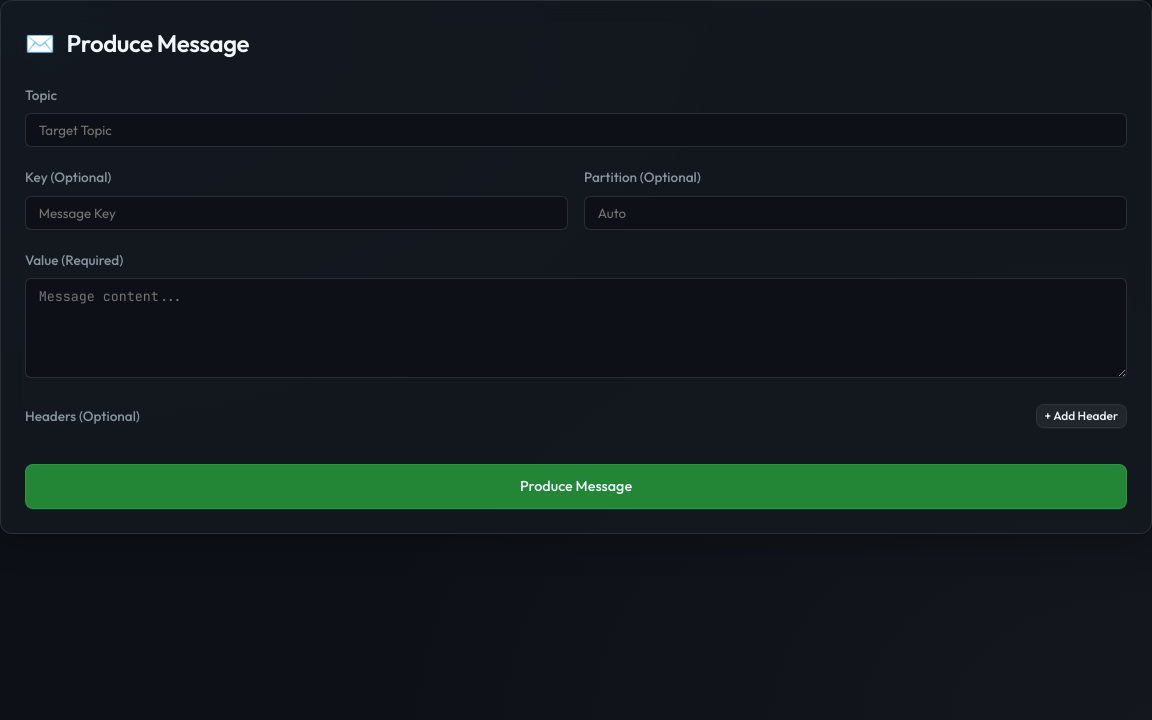
Test: ProducerPanel › shows validation errors on submit with empty fields
Click the button "Produce Message" at (576, 486), box x1=25 y1=464 x2=1127 y2=509
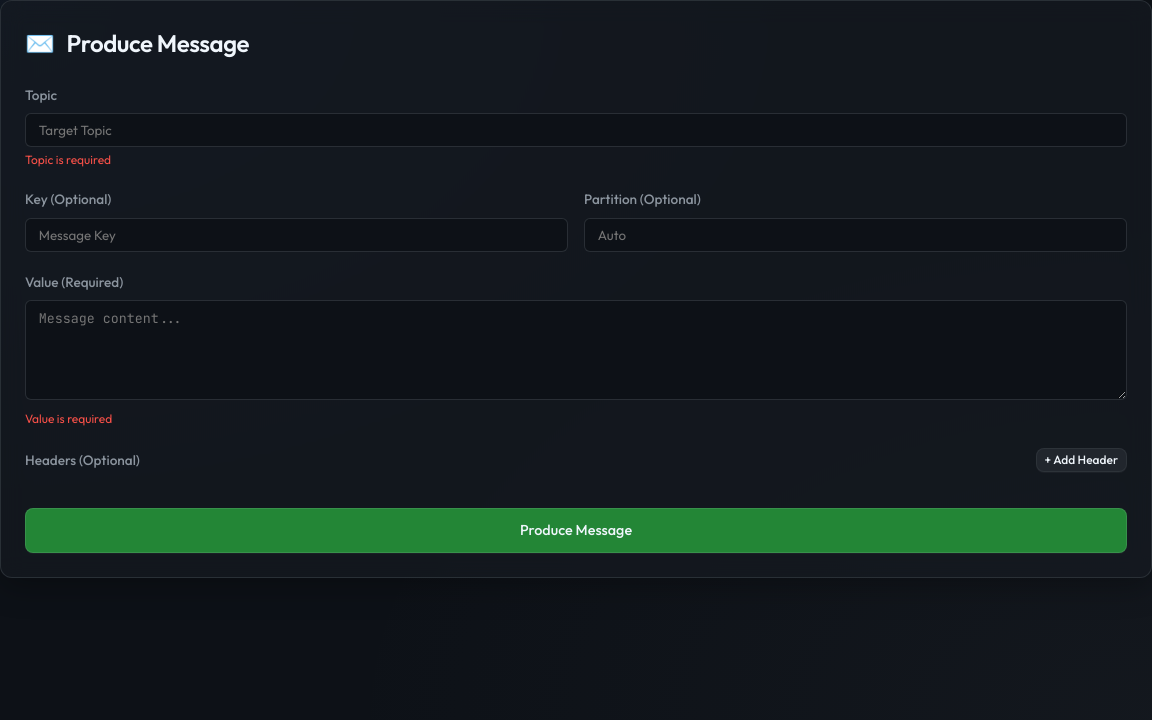
Check: the text "Topic is required" is shown, box x1=25 y1=152 x2=111 y2=167
Check: the text "Value is required" is shown, box x1=25 y1=411 x2=112 y2=426
